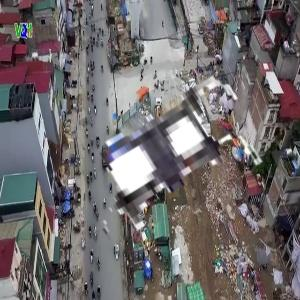drone: (62, 63, 267, 268)
